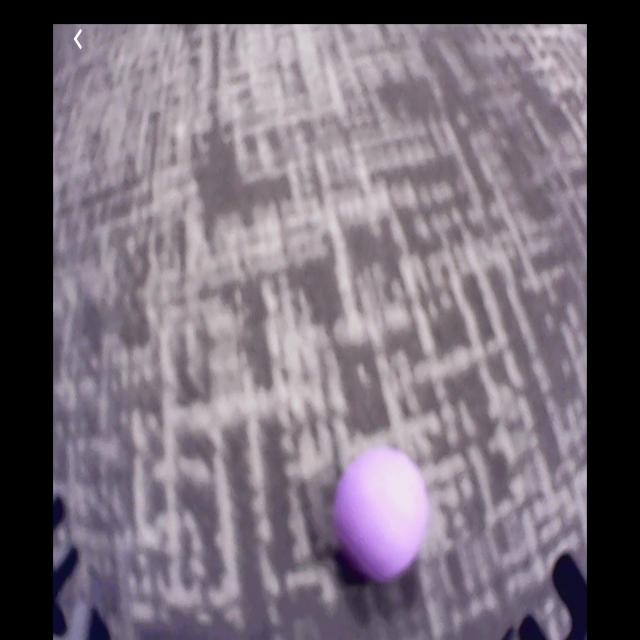ball: (337, 444, 428, 581)
